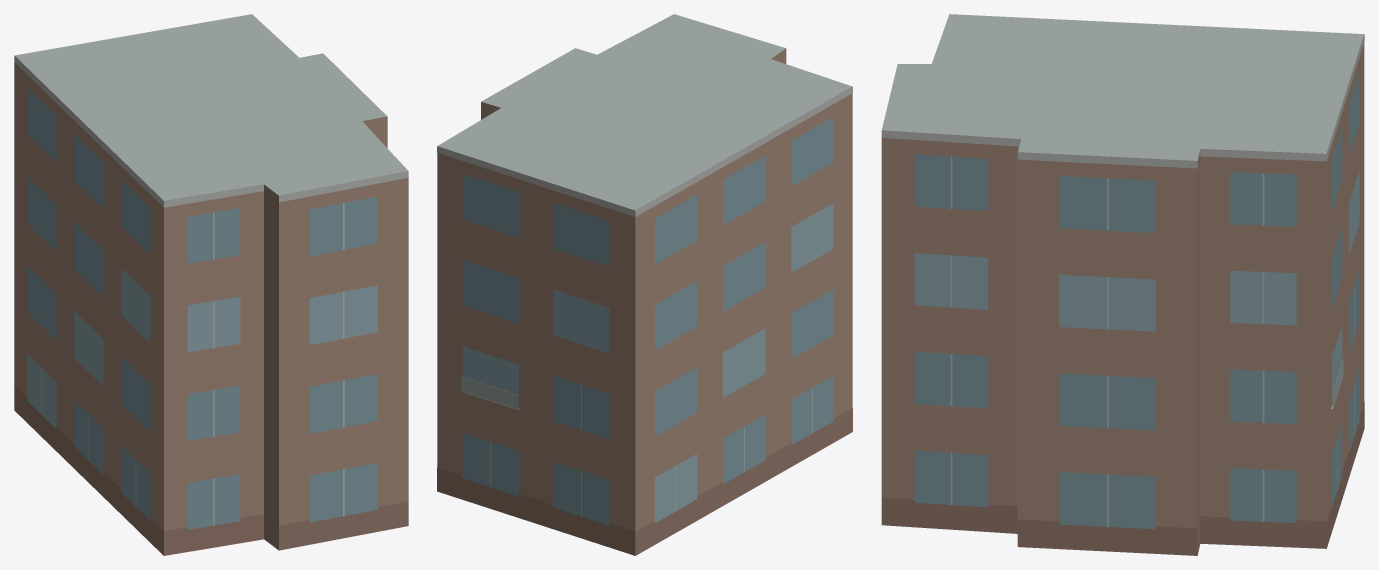
The model's file is survey-upis-32975464.glb.
3 views of the same model, side by side, from view 1: azimuth 30°, elevation 25°; view 2: azimuth 150°, elevation 25°; view 3: azimuth 270°, elevation 25° (orthographic). The views are drawn at different scales.
Parts seen in each view (by area): view 1: survey-upis-32975464.tmp; view 2: survey-upis-32975464.tmp; view 3: survey-upis-32975464.tmp.
Boxes of the visible parts, bbox=[...] form: survey-upis-32975464.tmp: bbox=[14, 14, 408, 555]; survey-upis-32975464.tmp: bbox=[437, 14, 852, 555]; survey-upis-32975464.tmp: bbox=[881, 14, 1364, 555].
Size of the model in its own units: 10.23 by 12.8 by 14.19.
